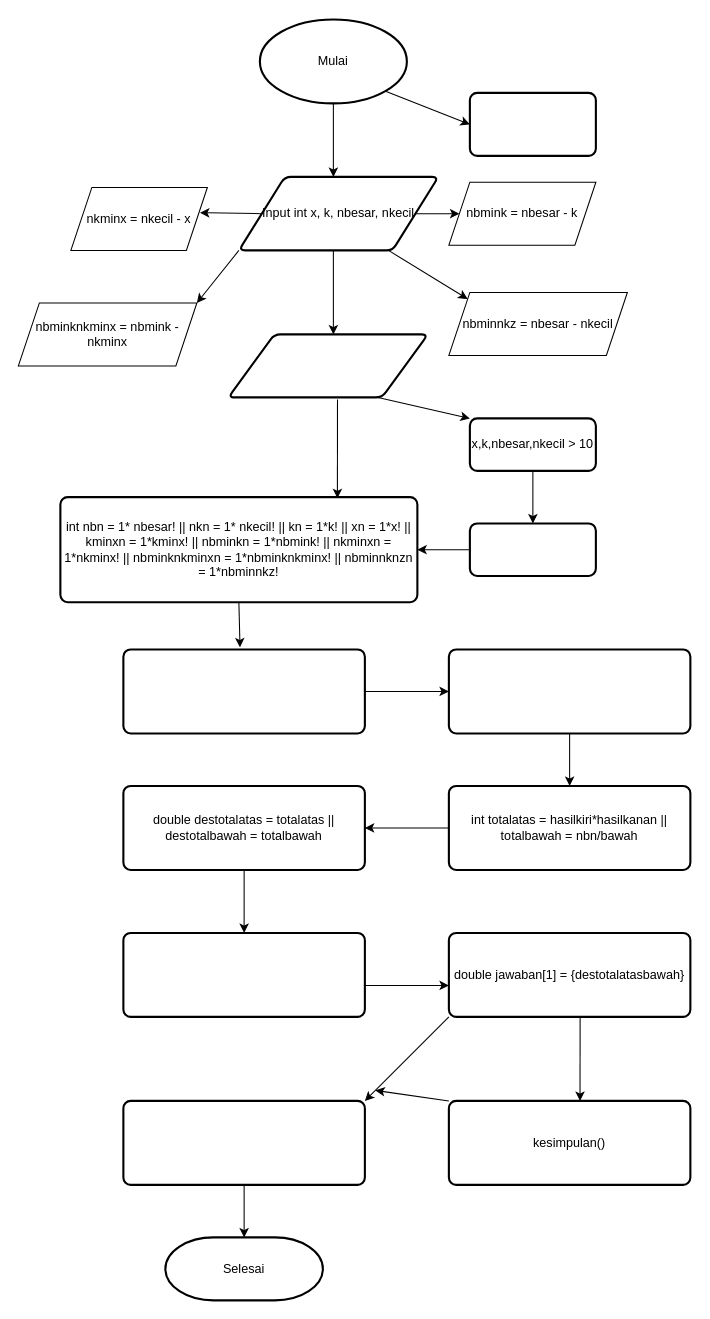
Some shapes in this 710 by 1319 pixel diagram are drawn without their labels. The centre of each missing label's shape, as x and y in pixels:
batasan(): (x=532, y=123)
destotalatasbawah = destotalatas / destotalbawah: (x=243, y=974)
int hasilkiri = kn / kiri || hasilkanan = nbminkn / kanan: (x=569, y=691)
int kiri = kminx*xn || kanan = nkminxn*nbminknkminxn || bawah = nbminnkzn*nkn: (x=243, y=691)
kminx = k - x: (x=327, y=365)
output nilai bermasalah: (x=532, y=549)
Tampilkan Peluang: (x=243, y=1142)
